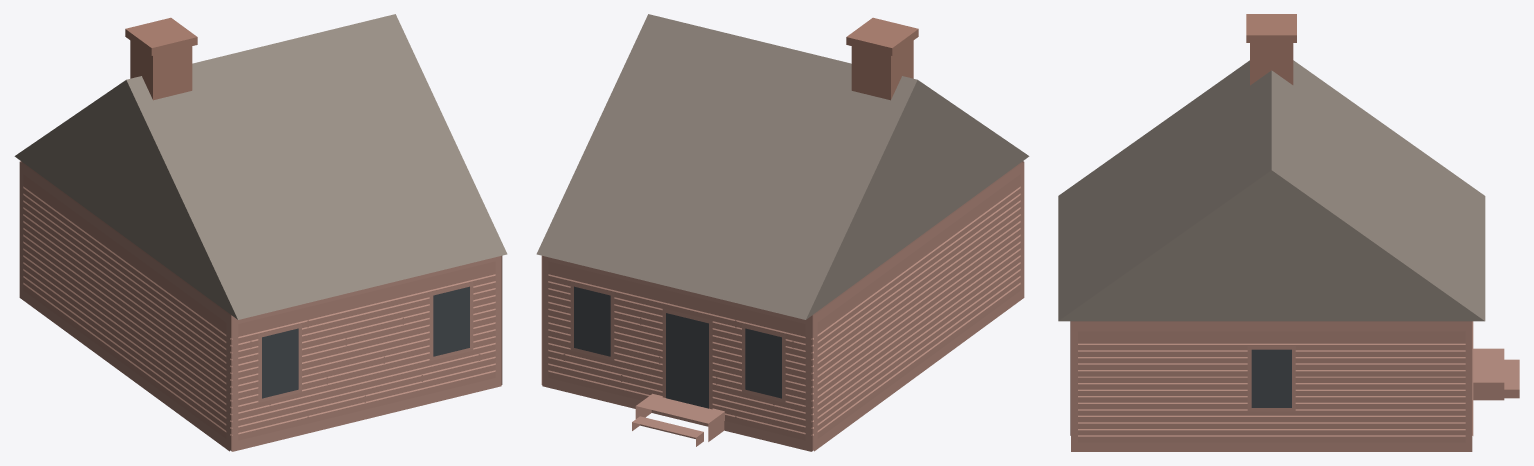
The model's file is recon_1835_south_d4_025__inferred_1835.glb.
3 views of the same model, side by side, from view 1: azimuth 30°, elevation 25°; view 2: azimuth 150°, elevation 25°; view 3: azimuth 270°, elevation 25° (orthographic). The views are drawn at different scales.
Visible parts, largest first — view 1: recon_1835_south_d4_025__inferred_1835; view 2: recon_1835_south_d4_025__inferred_1835; view 3: recon_1835_south_d4_025__inferred_1835.
Boxes of the visible parts, x1=… form: recon_1835_south_d4_025__inferred_1835: x1=14, y1=14, x2=507, y2=451; recon_1835_south_d4_025__inferred_1835: x1=536, y1=14, x2=1029, y2=451; recon_1835_south_d4_025__inferred_1835: x1=1058, y1=14, x2=1519, y2=451.
Bounding box in the file's own units: 5.83 × 6.79 × 8.95.
